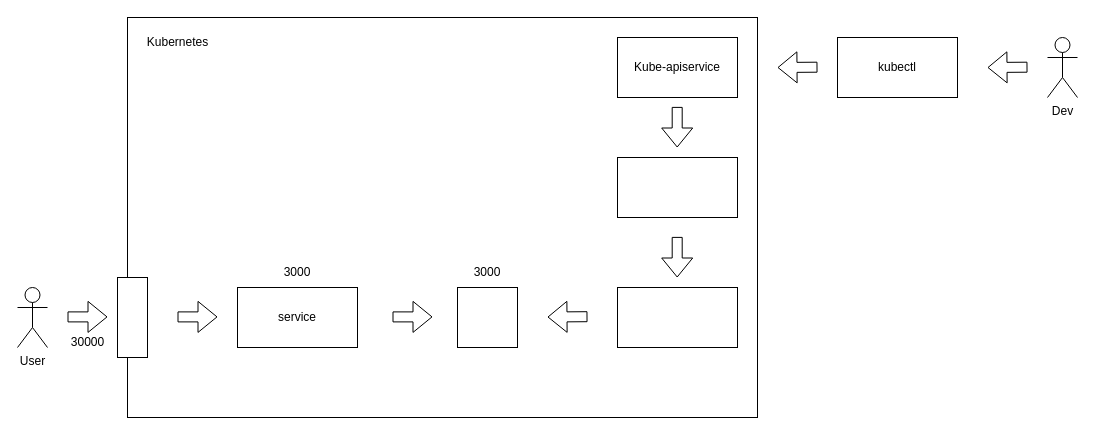
The diagram is 1095 pixels wide and 435 high, and some of its shapes have lost their labels. The shapes that lost their labels are listed below. From the top down, each one's centre as x and y in pixels, then its label:
At point (677, 187): "Deployment".
At point (487, 317): "pod".
At point (677, 317): "Replicaset".
